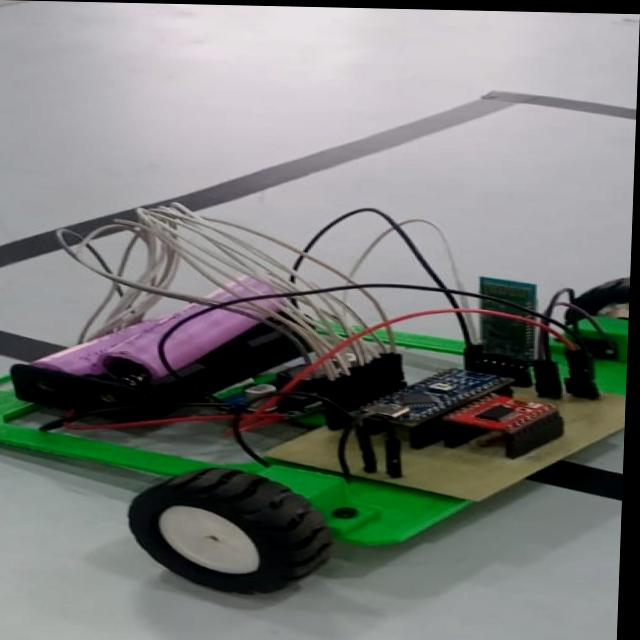vehicle: (0, 216, 632, 596)
